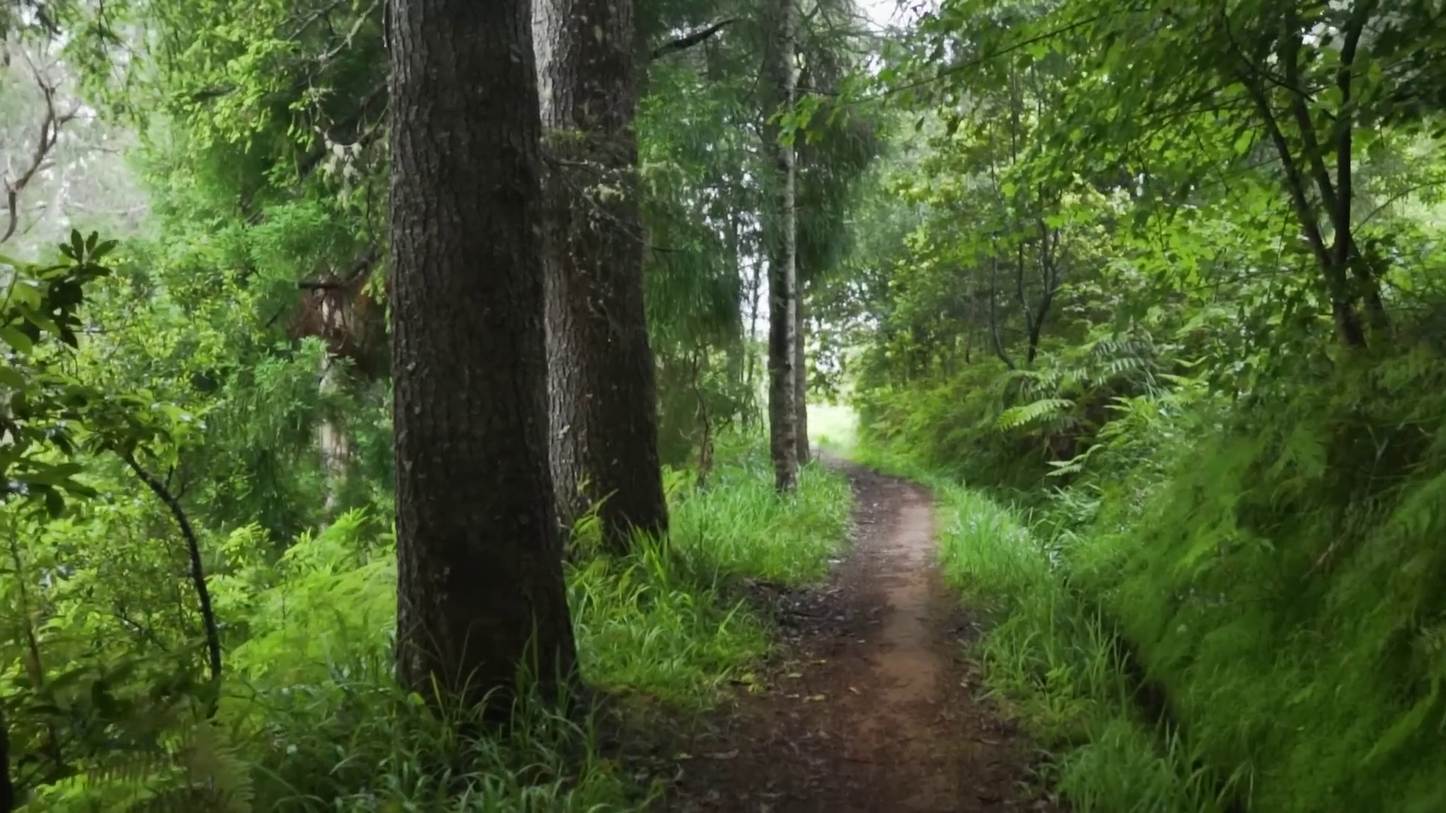tree: (389, 0, 575, 699), (533, 0, 667, 550), (762, 0, 799, 492)
